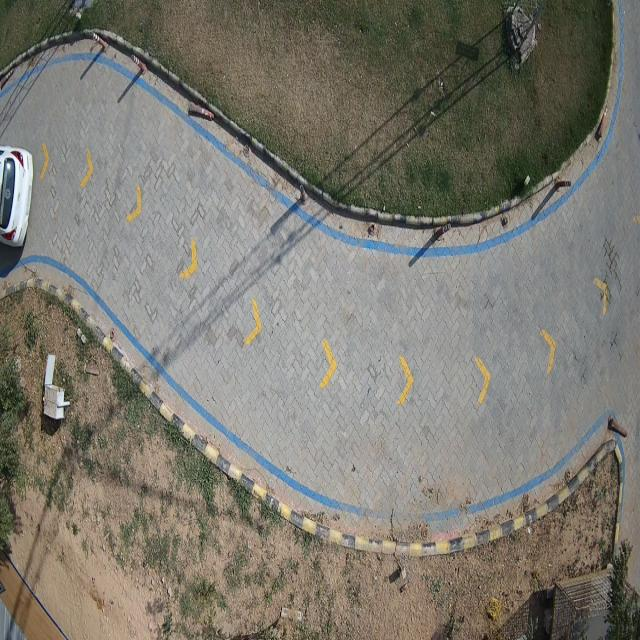car: (0, 147, 38, 258)
